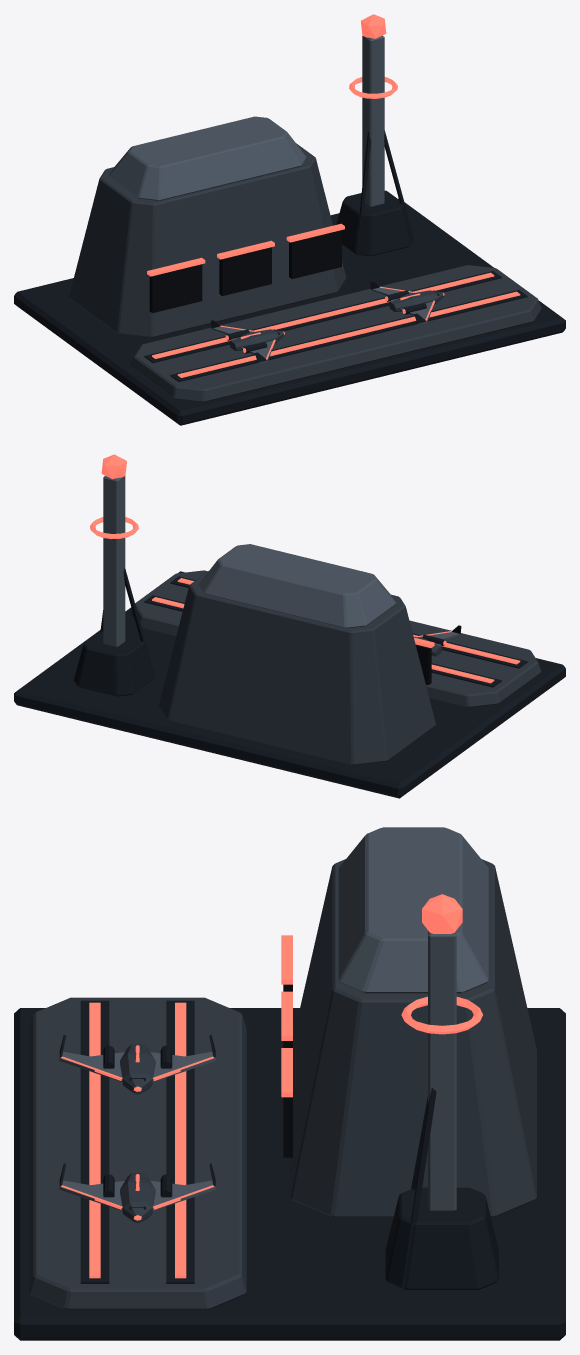
File: m_airfield.glb
3 views of the same model, one above another, from view 1: azimuth 30°, elevation 25°; view 2: azimuth 150°, elevation 25°; view 3: azimuth 270°, elevation 25° (orthographic). The views are drawn at different scales.
Visible parts, largest first — view 1: Drone nest; view 2: Drone nest; view 3: Drone nest.
Part boxes in pixels (x1,y1,x2,y2): Drone nest: (14, 14, 565, 425); Drone nest: (14, 454, 565, 798); Drone nest: (14, 827, 565, 1340).
Bounding box in the file's own units: 7.8 × 4.6 × 5.8.
